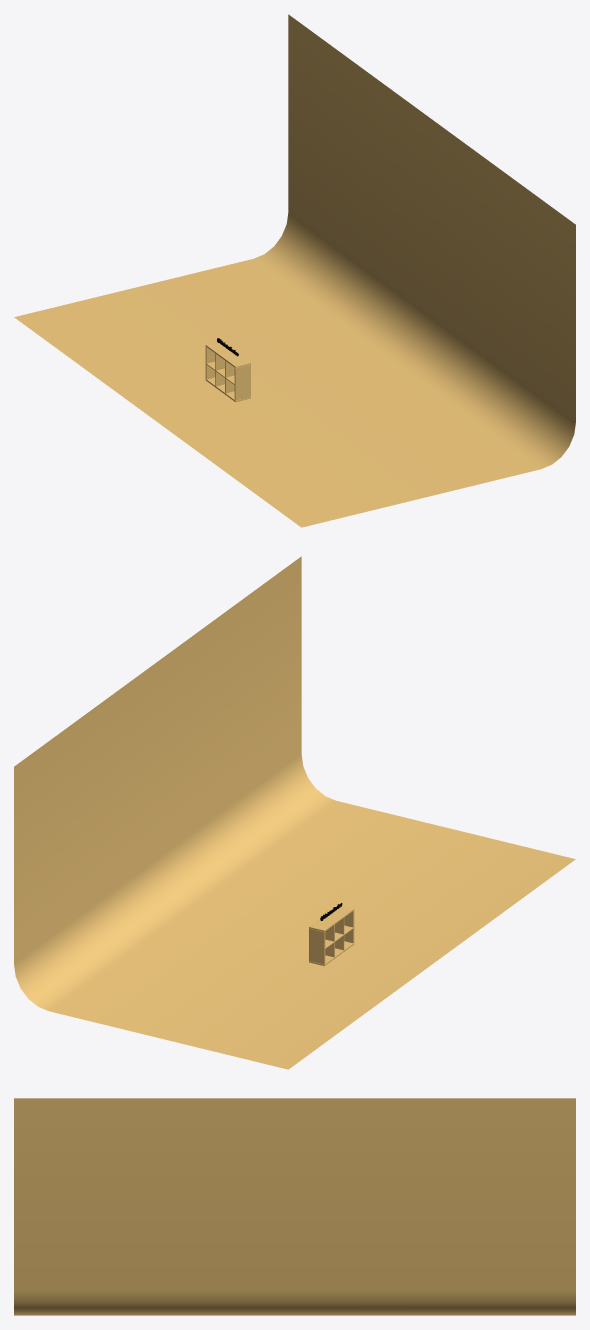
Rendered from shelf.obj.
3 renders of one model, top to bottom at view 1: azimuth 30°, elevation 25°; view 2: azimuth 150°, elevation 25°; view 3: azimuth 270°, elevation 25°, orthographic. The views are drawn at different scales.
Visible parts, largest first — view 1: background, shelf; view 2: background, shelf; view 3: background.
Boxes of the visible parts, <box> form: background: <box>14,14,575,527</box>; shelf: <box>205,342,250,402</box>; background: <box>14,556,575,1069</box>; shelf: <box>309,906,354,965</box>; background: <box>14,1098,575,1315</box>.
Bounding box in the file's own units: 5.3 × 4.36 × 9.63.
